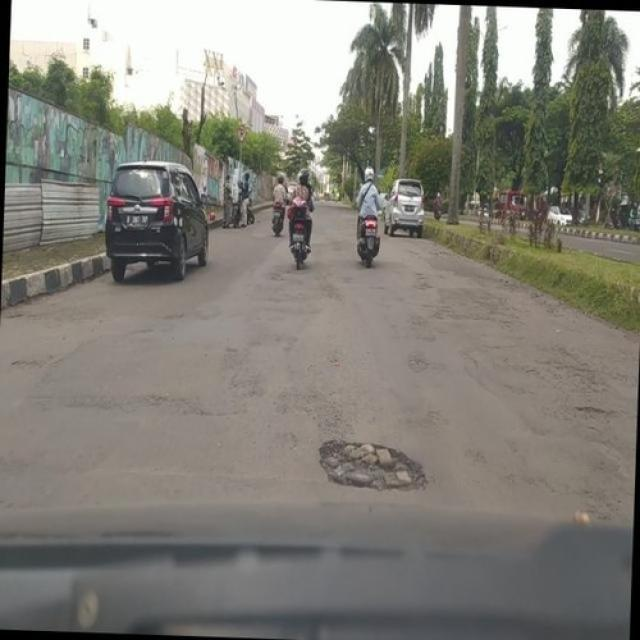Lubang: (313, 431, 419, 494)
